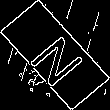N_NE: (22, 24, 88, 86)
